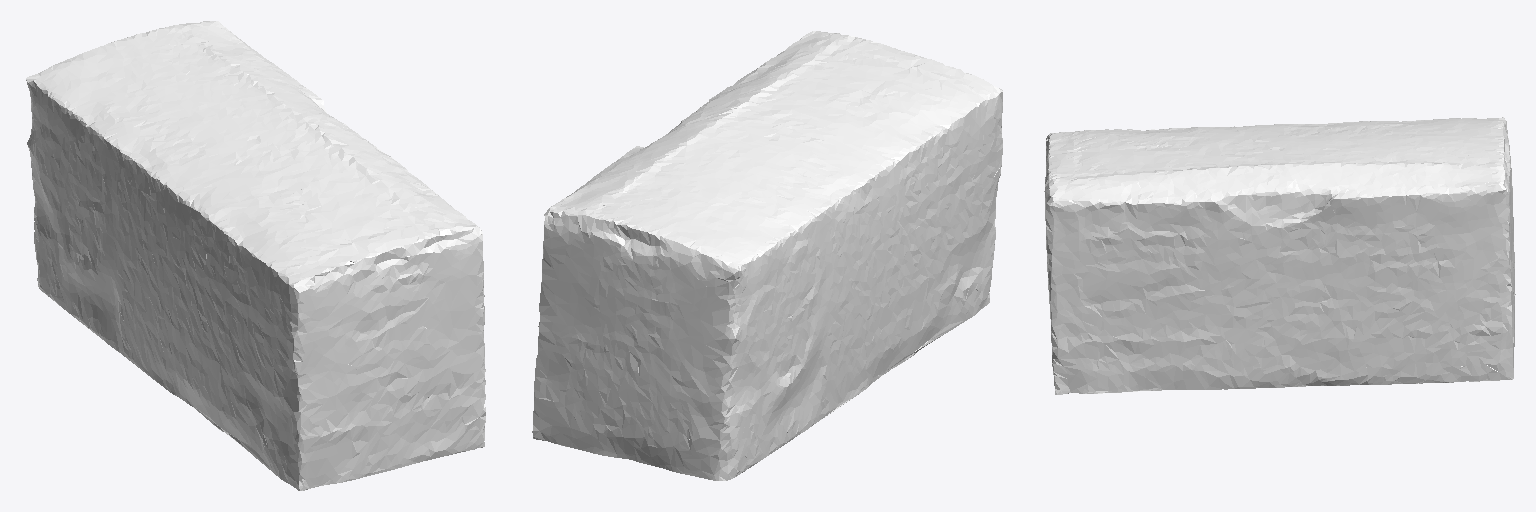
robot.urdf — teayellow:
<?xml version="1.0" ?>
<robot name="teayellow">
 <link name="baseLink">
   <contact>
     <lateral_friction value="0.5"/>
   </contact>
   <inertial>
     <origin rpy="0 0 0" xyz="0.001877 -0.004355 -0.00441"/>
      <mass value="1.0"/>
      <inertia ixx="0.000002" ixy="0.000000" ixz="-0.000000" iyy="0.000001" iyz="-0.000000" izz="0.000002"/>
   </inertial>
   <visual>
     <origin rpy="0 0 0" xyz="0 0 0"/>
     <geometry>
       <mesh filename="teayellow.obj" scale="1.0 1.0 1.0"/>
     </geometry>
      <material name="white">
       <color rgba="1 1 1 1"/>
     </material>
   </visual>
   <collision>
     <origin rpy="0 0 0" xyz="0 0 0"/>
     <geometry>
       <mesh filename="teayellow_vhacd2.obj" scale="1.0 1.0 1.0"/>
     </geometry>
   </collision>
 </link>
</robot>

--- Render facts (derived) ---
Views: 3 orthographic renders of the robot side by side, from view 1: azimuth 30°, elevation 25°; view 2: azimuth 150°, elevation 25°; view 3: azimuth 270°, elevation 25°.
Model teayellow with 1 links and 0 joints (none), rooted at baseLink, posed all joints at 0.
Visible links, largest first — view 1: baseLink; view 2: baseLink; view 3: baseLink.
Boxes of the visible links, bbox=[...] form: baseLink: bbox=[26, 21, 485, 490]; baseLink: bbox=[532, 31, 1002, 480]; baseLink: bbox=[1044, 117, 1515, 394].
Size in the robot's own frame: 0.069 by 0.1623 by 0.0802 metres.
1 mesh visuals loaded from 1 distinct referenced files (1 OBJ).